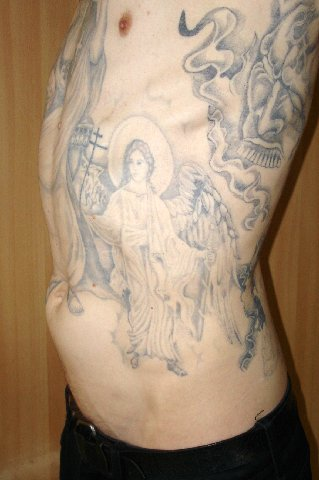tatu1_angel: (76, 114, 238, 380)
